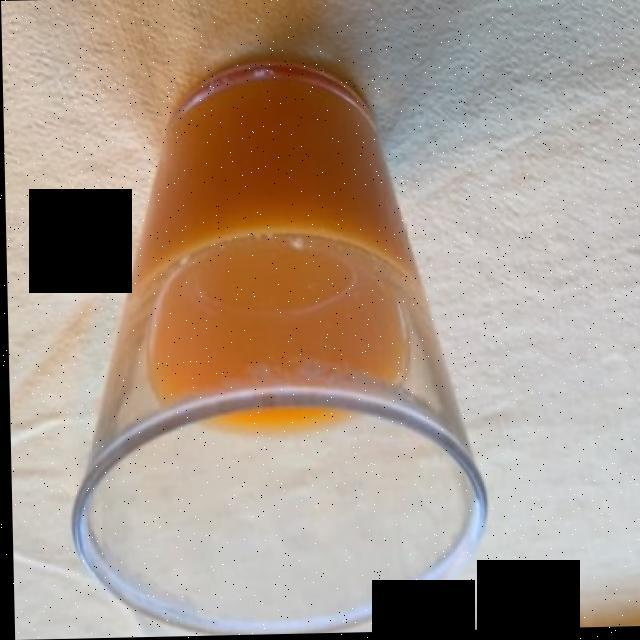juice: (116, 76, 416, 441)
